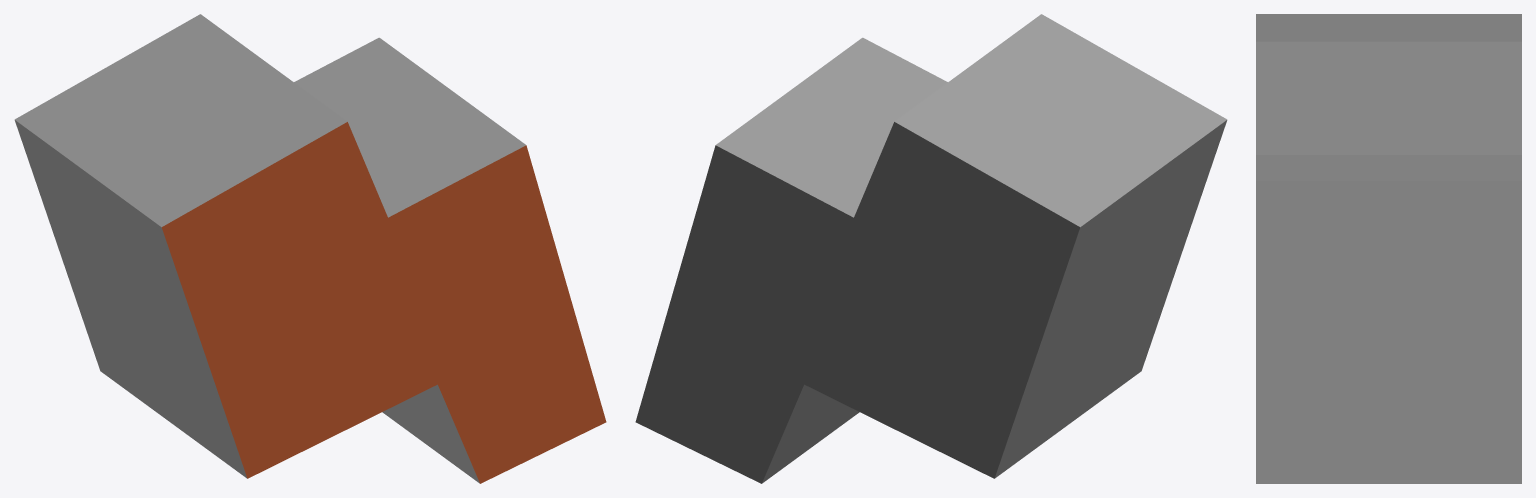
File: construction_0453_assumed_A_Casa_h6m.obj
The picture shows the model from 3 angles, left to right: view 1: azimuth 30°, elevation 25°; view 2: azimuth 150°, elevation 25°; view 3: azimuth 270°, elevation 25°; orthographic projection. The views are drawn at different scales.
Parts seen in each view (by area): view 1: construction_0453_assumed_A_Casa; view 2: construction_0453_assumed_A_Casa; view 3: construction_0453_assumed_A_Casa.
Part boxes in pixels (x1,y1,x2,y2): construction_0453_assumed_A_Casa: [14, 14, 606, 483]; construction_0453_assumed_A_Casa: [635, 14, 1227, 483]; construction_0453_assumed_A_Casa: [1256, 14, 1521, 483].
Size of the model in its own units: 10.47 by 8.88 by 6.
